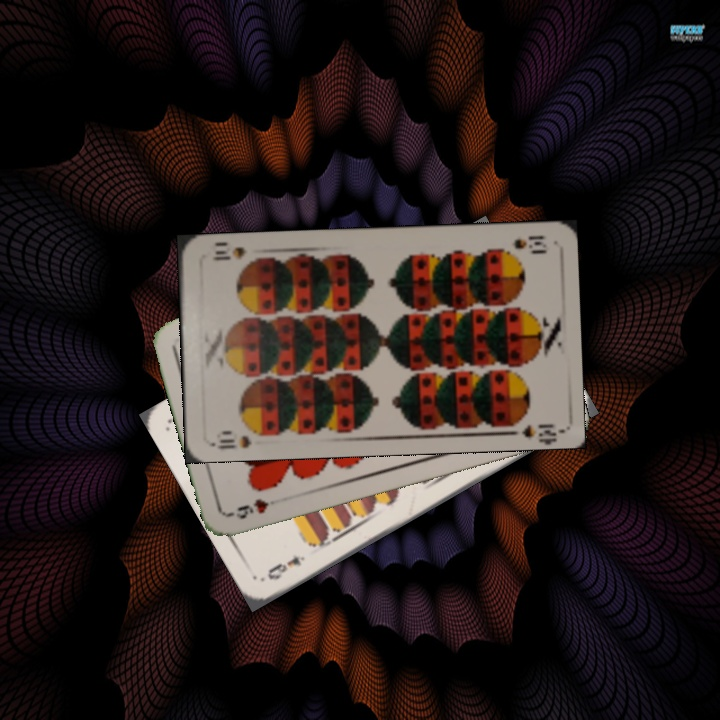E9: (263, 551, 308, 583)
H9: (226, 494, 284, 522)
S10: (210, 425, 268, 451), (509, 231, 550, 255)
